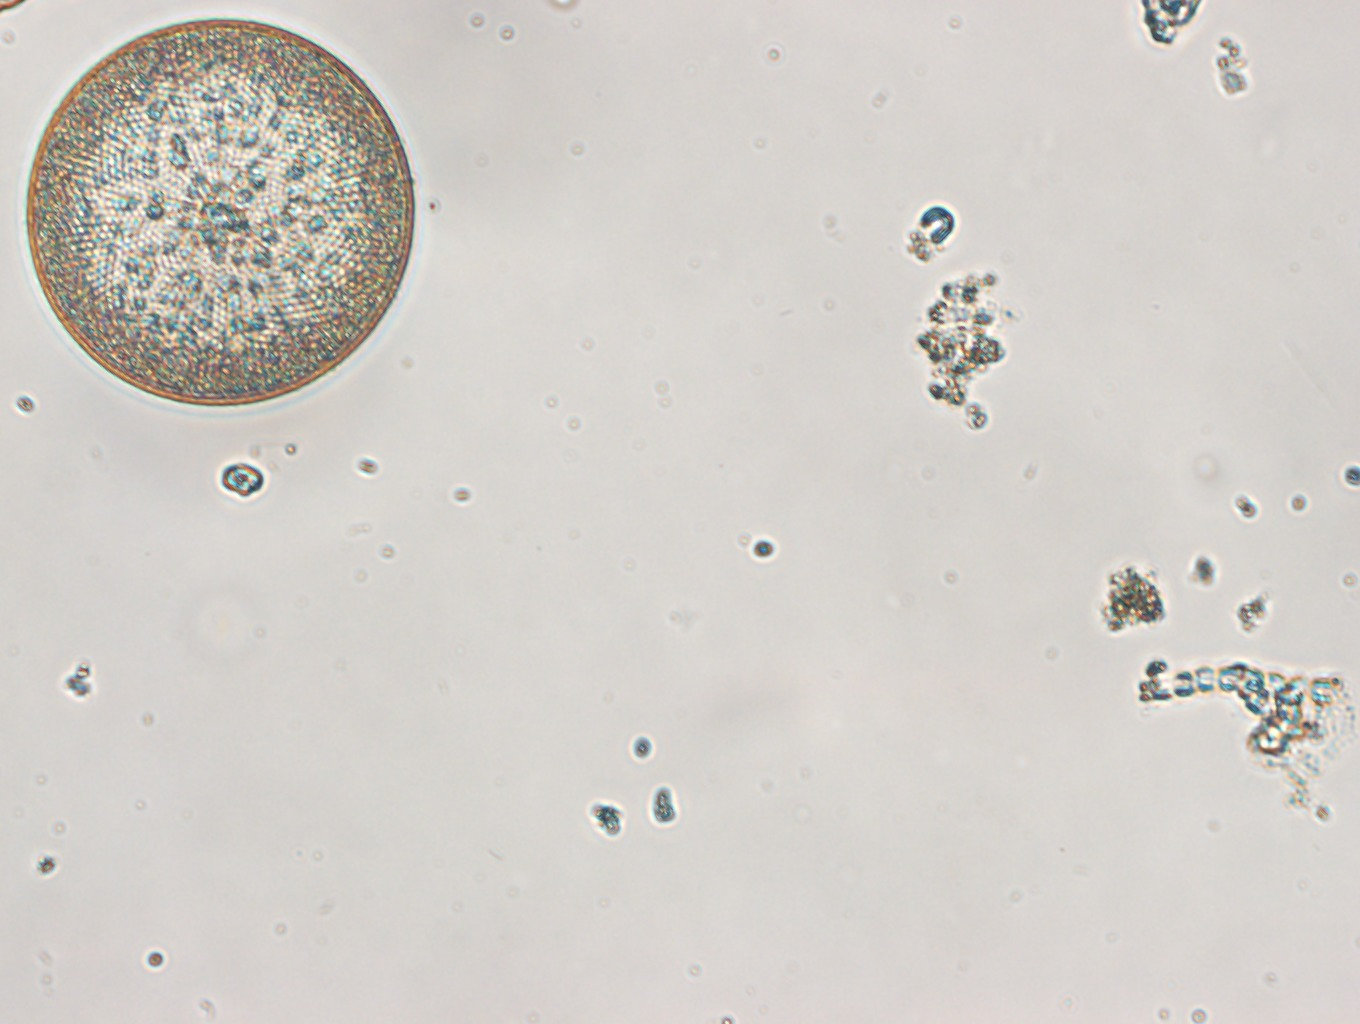coscinodiscus: (22, 16, 418, 406)
